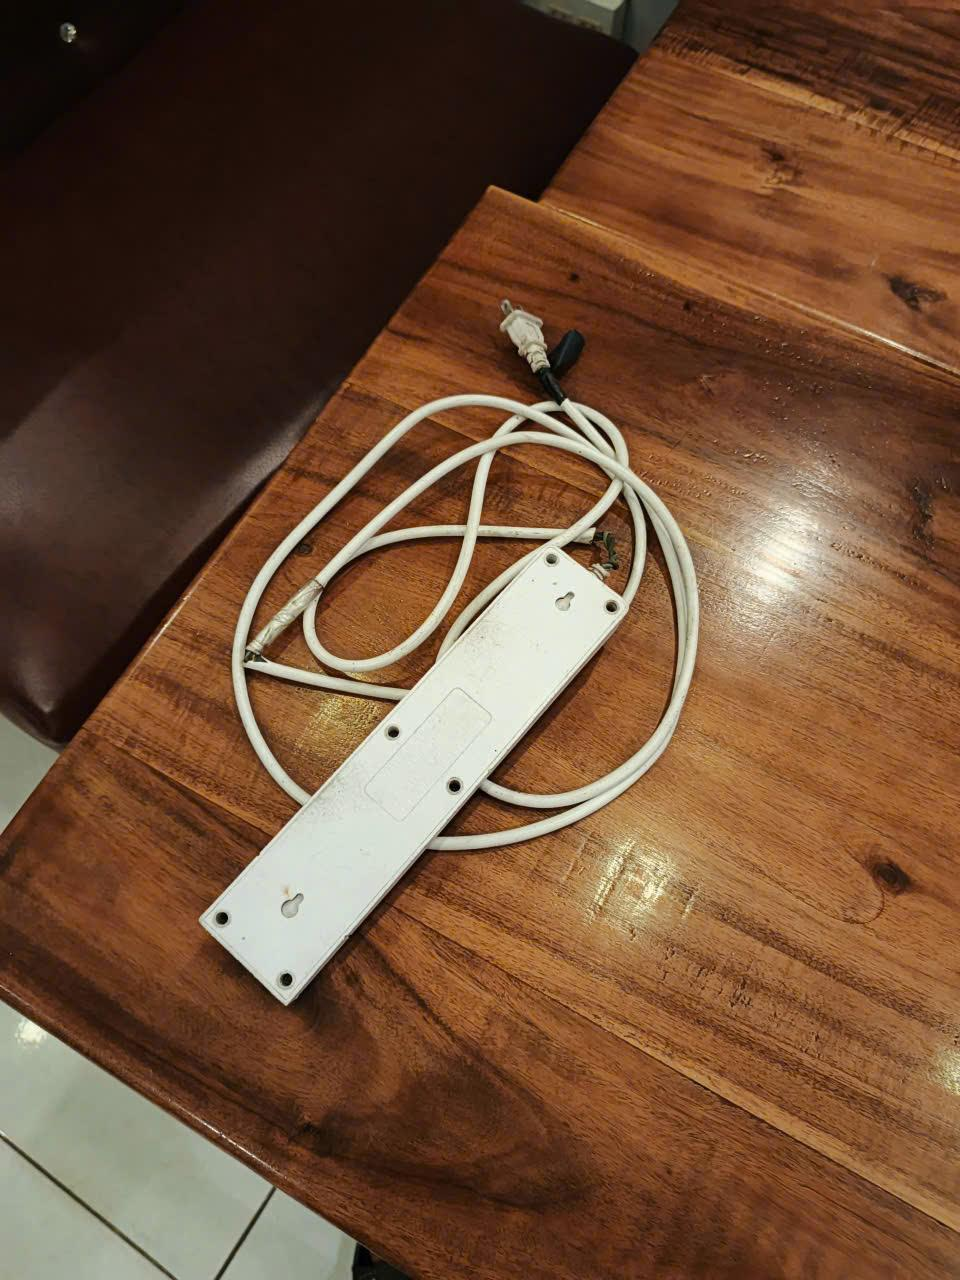Con lai: (198, 295, 704, 1011)
